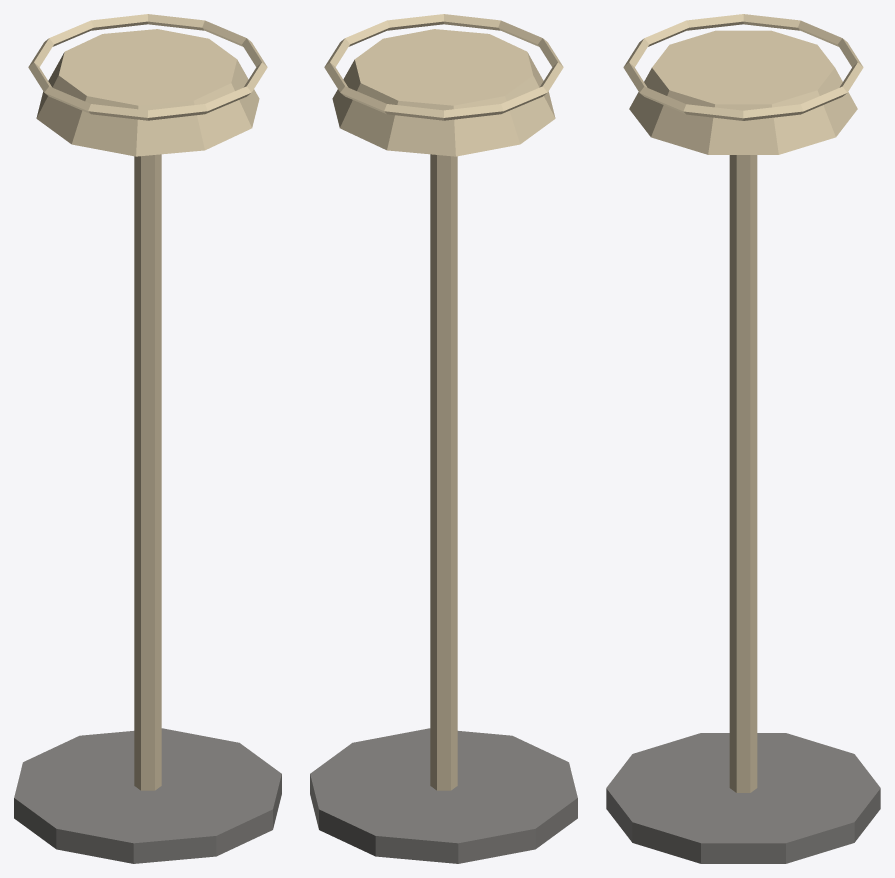
Rendered from standing_ashtray.glb.
3 renders of one model, left to right at view 1: azimuth 30°, elevation 25°; view 2: azimuth 150°, elevation 25°; view 3: azimuth 270°, elevation 25°, orthographic.
Parts seen in each view (by area): view 1: StandingAshtray; view 2: StandingAshtray; view 3: StandingAshtray.
Part boxes in pixels (box(x1,y1,x2,y2)): StandingAshtray: box(14, 14, 281, 863); StandingAshtray: box(310, 14, 577, 863); StandingAshtray: box(606, 14, 880, 863).
Bounding box in the file's own units: 0.2283 × 0.72 × 0.24.
